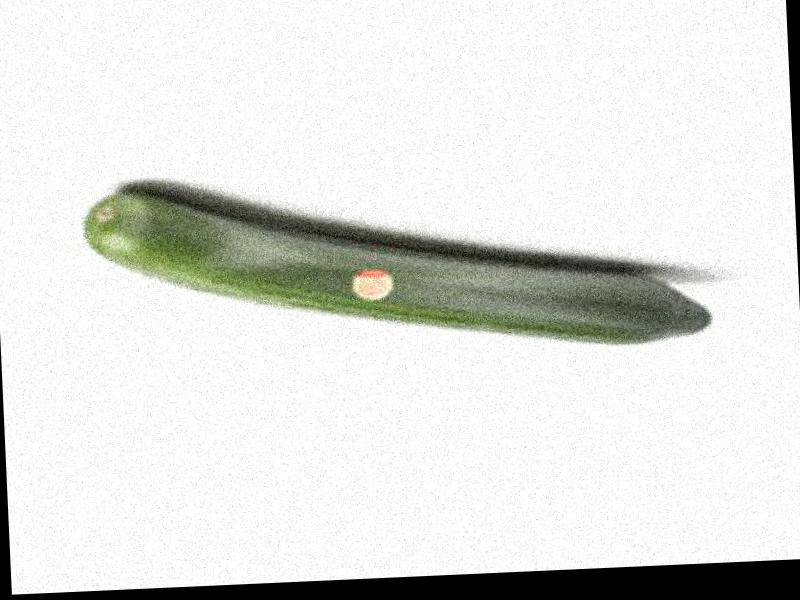Cucumber: (78, 166, 712, 368)
